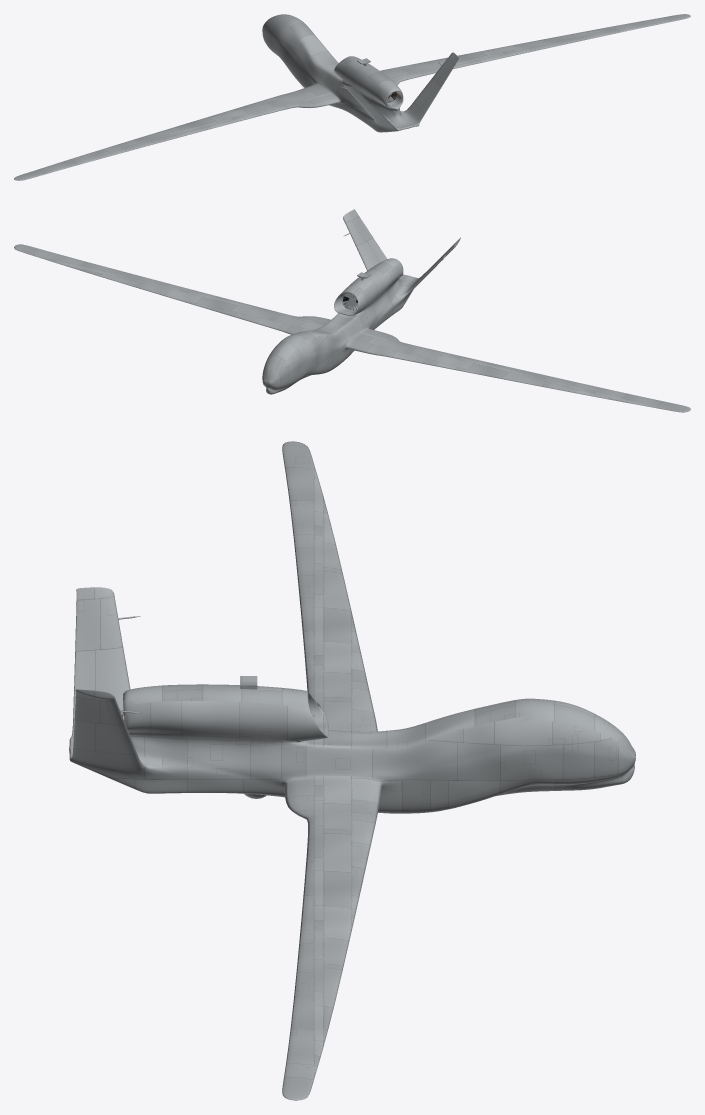
3 views of the same model, one above another, from view 1: azimuth 30°, elevation 25°; view 2: azimuth 150°, elevation 25°; view 3: azimuth 270°, elevation 25° (orthographic). The views are drawn at different scales.
Visible parts, largest first — view 1: rq4; view 2: rq4; view 3: rq4.
Part boxes in pixels (box(x1,y1,x2,y2)): rq4: box(14, 14, 690, 180); rq4: box(14, 209, 690, 412); rq4: box(69, 441, 635, 1100).
Bounding box in the file's own units: 39.9 × 4.71 × 14.5.
Materials: 3 (1 with a texture image).
